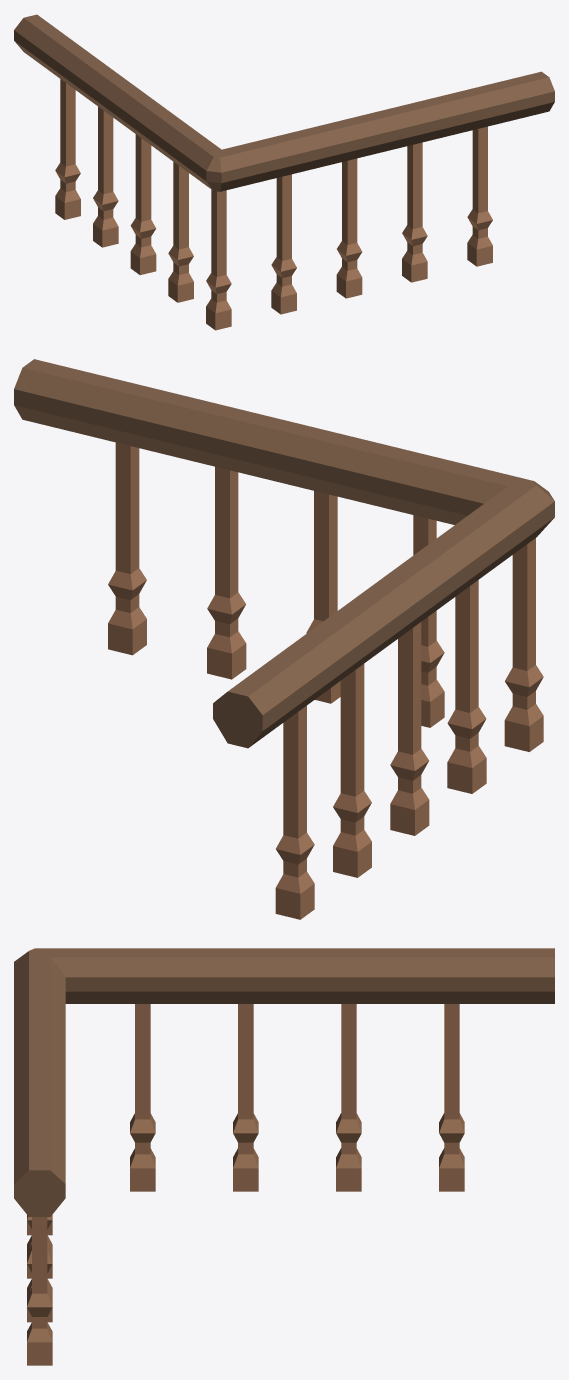
File: Structure_Stairs_Railing_Landing_Corner.obj
3 views of the same model, one above another, from view 1: azimuth 30°, elevation 25°; view 2: azimuth 150°, elevation 25°; view 3: azimuth 270°, elevation 25° (orthographic). The views are drawn at different scales.
Parts seen in each view (by area): view 1: object1; view 2: object1; view 3: object1.
Boxes of the visible parts, x1,y1,x2,y2 form: object1: (14, 14, 554, 330); object1: (14, 359, 554, 919); object1: (14, 948, 554, 1365).
Bounding box in the file's own units: 1.05 × 0.5 × 1.05.
